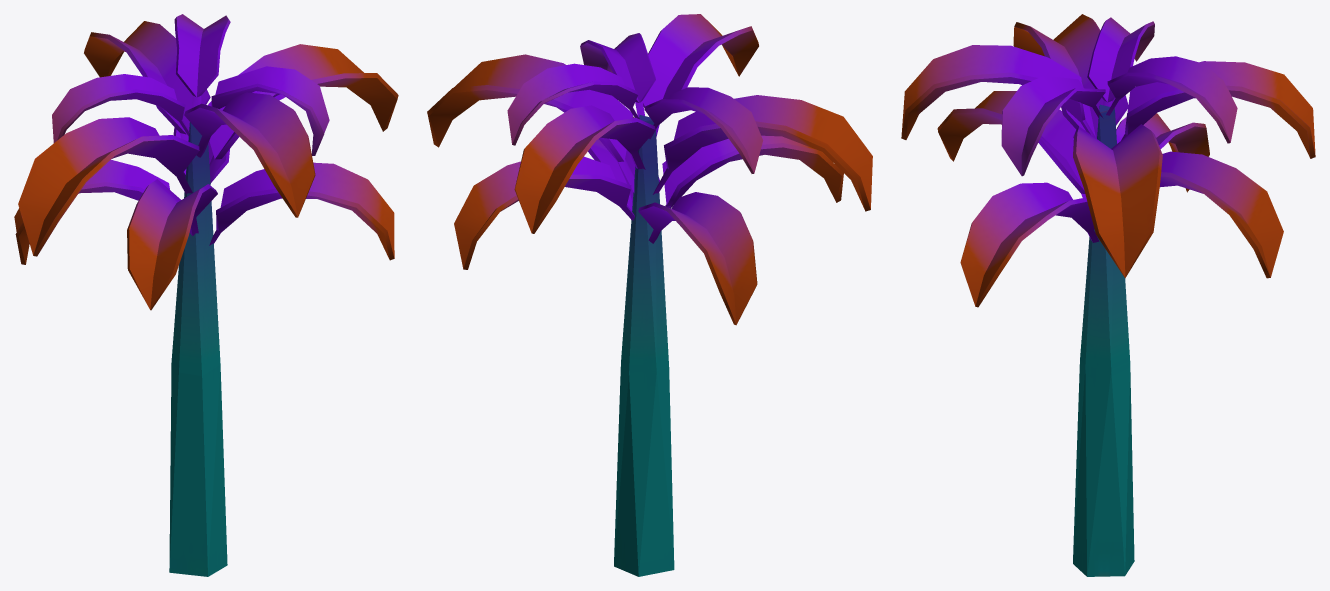
Rendered from palm_ver3.fbx.
The picture shows the model from 3 angles, left to right: view 1: azimuth 30°, elevation 25°; view 2: azimuth 150°, elevation 25°; view 3: azimuth 270°, elevation 25°; orthographic projection. The views are drawn at different scales.
Visible parts, largest first — view 1: palm_ver3; view 2: palm_ver3; view 3: palm_ver3.
Boxes of the visible parts, x1,y1,x2,y2 form: palm_ver3: (14,14,398,576); palm_ver3: (427,14,872,576); palm_ver3: (901,14,1315,576).
Size of the model in its own units: 260 by 316 by 229.
